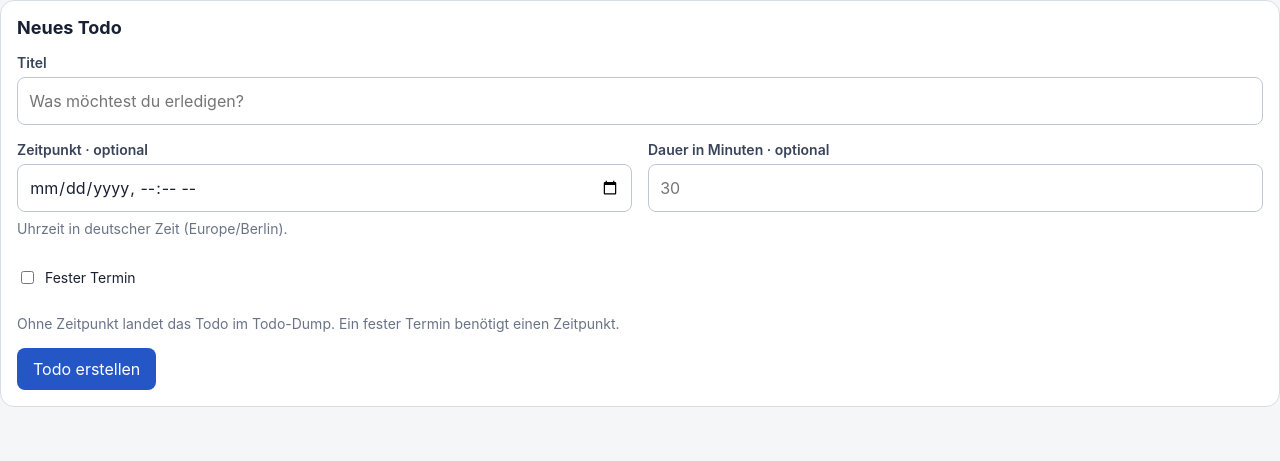
Test case: CreateTodoForm › creates an unscheduled todo and resets the form
Type "  NestJS lernen  " into the field named "title" at (640, 101), box top-left (17, 77), bottom-right (1263, 125)
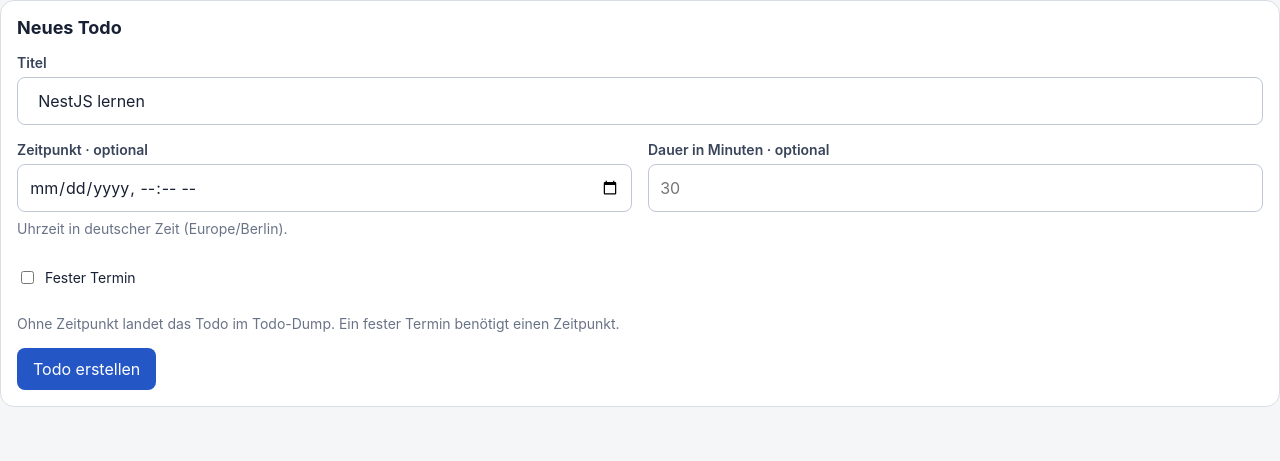
Submit the form
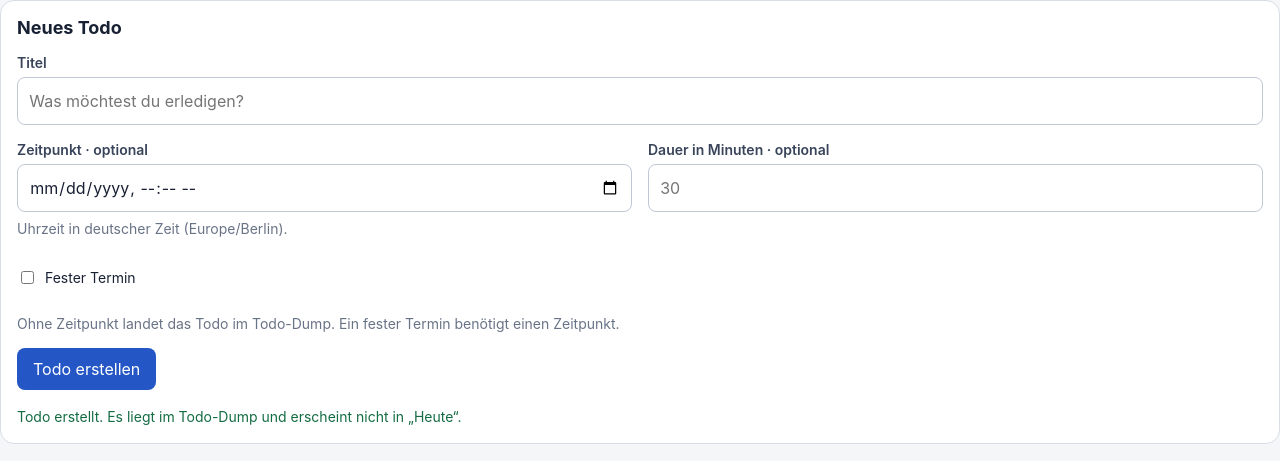
Expected: the field named "title" is empty, top-left (17, 77), bottom-right (1263, 125)
Expected: the message "Todo erstellt. Es liegt im Todo-Dump und erscheint nicht in „Heute“." is shown, top-left (17, 408), bottom-right (462, 425)
